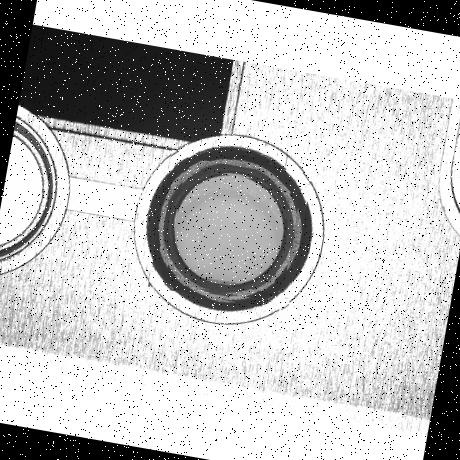Hole: (133, 133, 325, 325)
Hole2: (148, 149, 312, 313)
Hole3: (154, 156, 304, 304)
Hole4: (166, 168, 292, 294)
